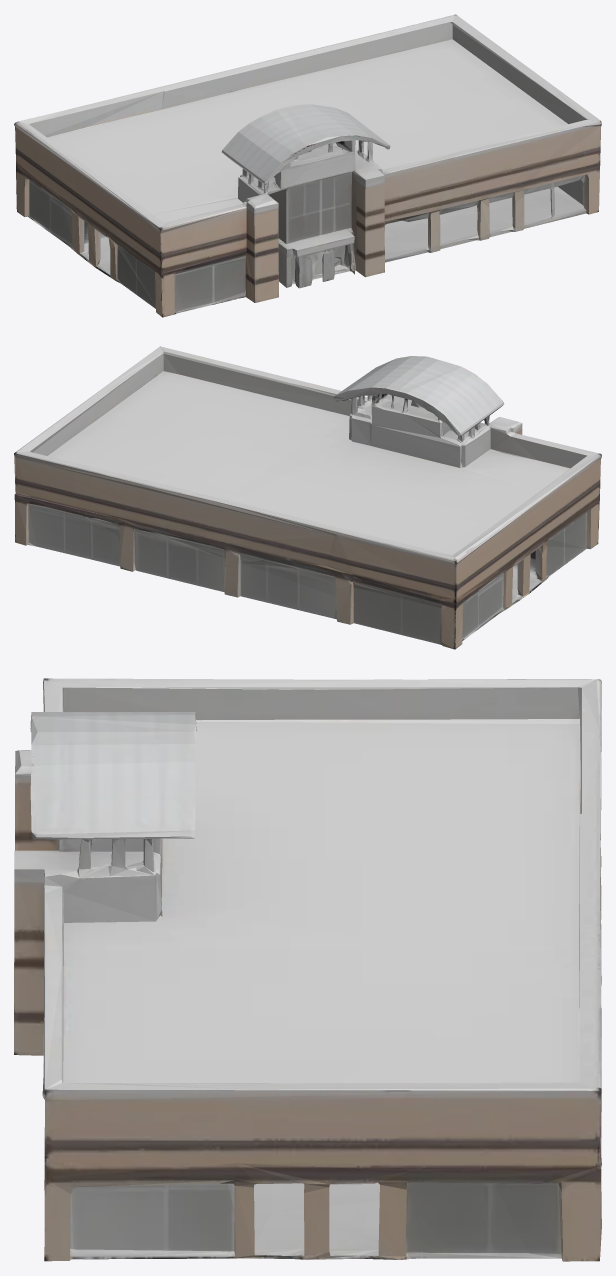
Rendered from lm_mall.glb.
The picture shows the model from 3 angles, top to bottom: view 1: azimuth 30°, elevation 25°; view 2: azimuth 150°, elevation 25°; view 3: azimuth 270°, elevation 25°; orthographic projection. The views are drawn at different scales.
Parts seen in each view (by area): view 1: geometry_0; view 2: geometry_0; view 3: geometry_0.
Part boxes in pixels (bbox=[...]): geometry_0: bbox=[14, 14, 601, 317]; geometry_0: bbox=[14, 346, 601, 649]; geometry_0: bbox=[14, 678, 601, 1261].
Bounding box in the file's own units: 0.9989 × 0.3099 × 0.6011.
1 material, 1 textured.
